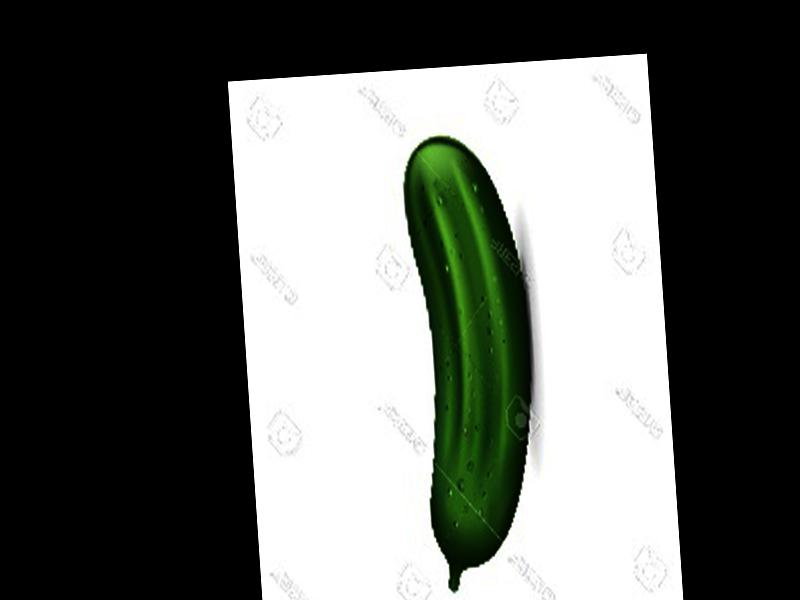Cucumber: (400, 131, 547, 591)
